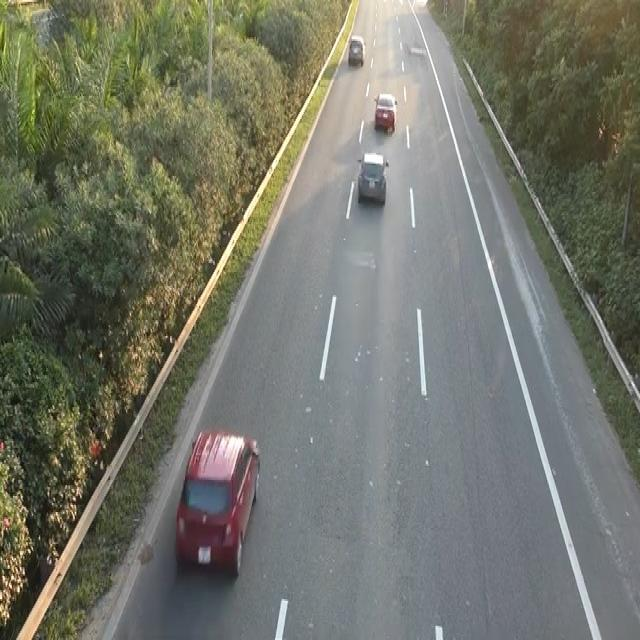bus: (173, 423, 262, 578), (356, 150, 389, 204), (373, 89, 397, 133)
